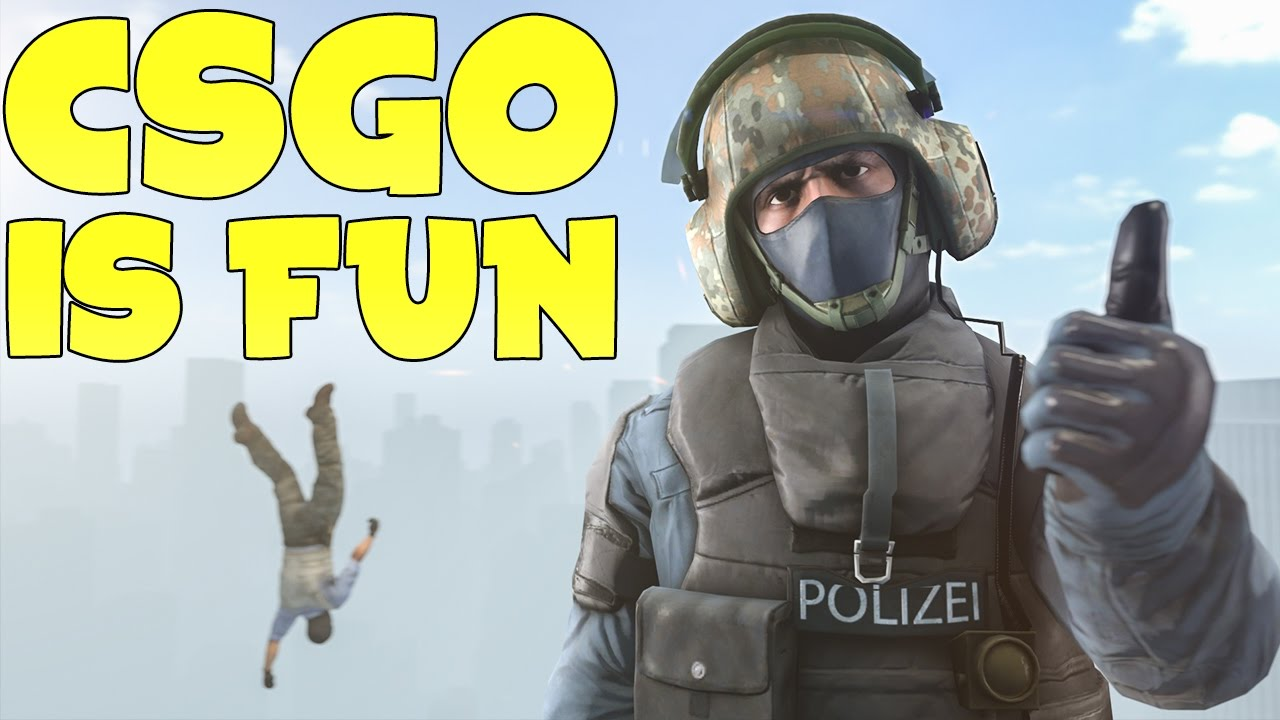c: (542, 4, 1265, 720)
ch: (660, 7, 1007, 340)
